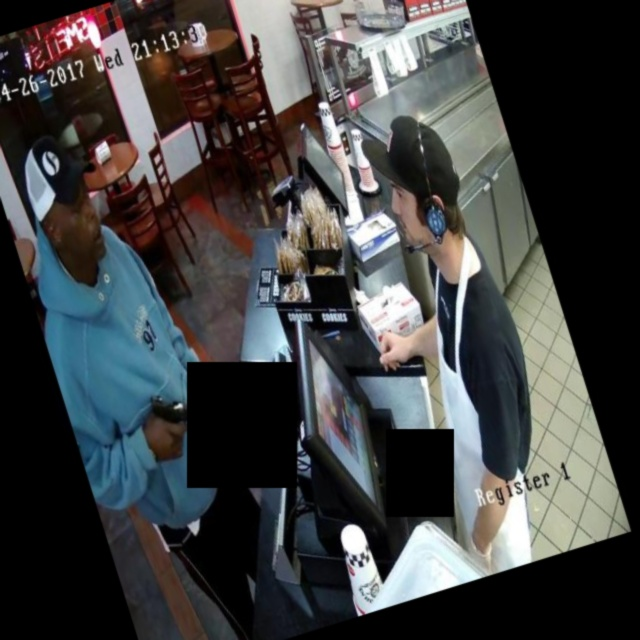gun: (123, 365, 187, 468)
